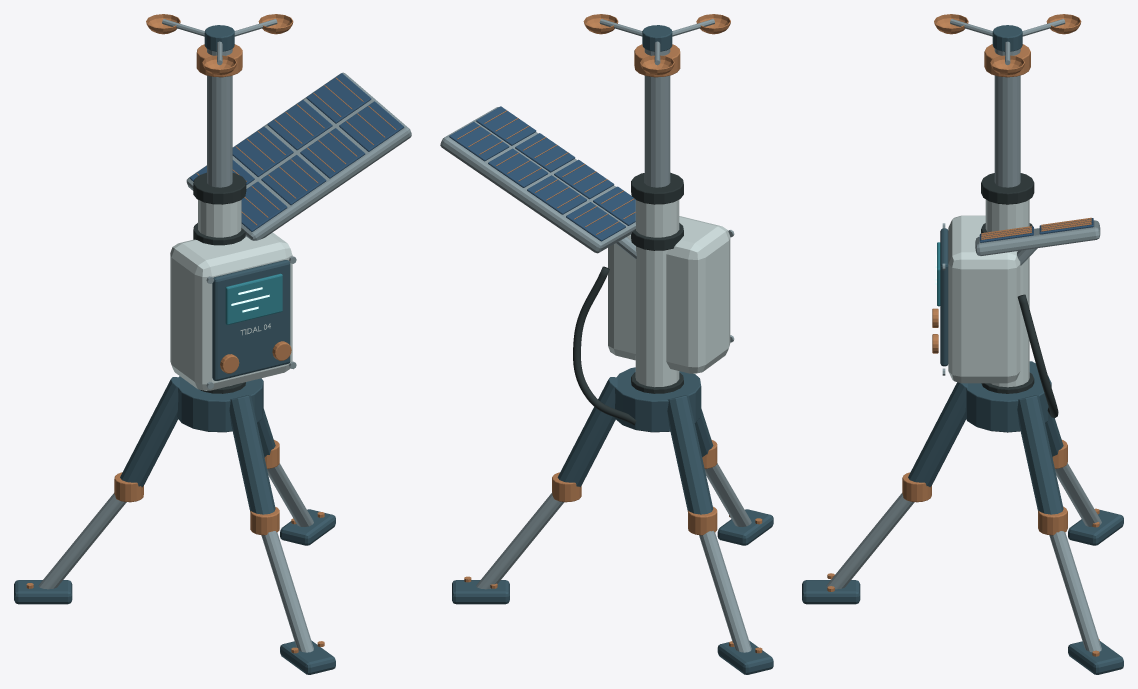
Rendered from tidal_station.glb.
3 renders of one model, left to right at view 1: azimuth 30°, elevation 25°; view 2: azimuth 150°, elevation 25°; view 3: azimuth 270°, elevation 25°, orthographic.
Visible parts, largest first — view 1: Weather-sealed control enclosure, Front instrument face, Panel frame, Leg protective sleeve.002, Upper mast, Mast base, Leg protective sleeve.001, Display glass, Telescopic leg lower.002, Telescopic leg lower.001, Photovoltaic cell.007, Photovoltaic cell.004 (+15 smaller); view 2: Weather-sealed control enclosure, Lower telescopic mast, Panel frame, Upper mast, Leg protective sleeve.001, Mast base, Leg protective sleeve, Telescopic leg lower.001, Telescopic leg lower, External service cable, Anchored foot, Photovoltaic cell.002 (+17 smaller); view 3: Weather-sealed control enclosure, Upper mast, Leg protective sleeve, Mast base, Leg protective sleeve.002, Lower telescopic mast, Telescopic leg lower, Telescopic leg lower.002, Panel frame, Anchored foot.002, Front instrument face, Mast seal.002 (+12 smaller).
Boxes of the visible parts, box(x1,y1,x2,y2) form: Weather-sealed control enclosure: box(170, 232, 292, 390); Front instrument face: box(212, 260, 290, 380); Panel frame: box(186, 72, 411, 240); Leg protective sleeve.002: box(229, 395, 275, 514); Upper mast: box(207, 48, 232, 187); Mast base: box(177, 376, 263, 432); Leg protective sleeve.001: box(120, 377, 179, 487); Display glass: box(225, 273, 282, 324); Telescopic leg lower.002: box(261, 531, 313, 652); Telescopic leg lower.001: box(38, 493, 126, 589); Photovoltaic cell.007: box(306, 73, 371, 123); Photovoltaic cell.004: box(300, 128, 365, 178); Weather-sealed control enclosure: box(608, 216, 730, 373); Lower telescopic mast: box(635, 200, 679, 387); Panel frame: box(440, 107, 635, 253); Upper mast: box(644, 49, 670, 187); Leg protective sleeve.001: box(667, 395, 713, 514); Mast base: box(614, 367, 701, 432); Leg protective sleeve: box(557, 377, 617, 487); Telescopic leg lower.001: box(699, 531, 751, 652); Telescopic leg lower: box(476, 492, 564, 589); External service cable: box(573, 266, 636, 425); Anchored foot: box(452, 580, 509, 604); Photovoltaic cell.002: box(554, 159, 614, 199); Weather-sealed control enclosure: box(948, 215, 1020, 383); Upper mast: box(994, 48, 1020, 187); Leg protective sleeve: box(1017, 395, 1063, 514); Mast base: box(965, 369, 1051, 432); Leg protective sleeve.002: box(908, 382, 967, 487); Lower telescopic mast: box(985, 199, 1029, 387); Telescopic leg lower: box(1049, 531, 1101, 652); Telescopic leg lower.002: box(826, 493, 914, 589); Panel frame: box(975, 220, 1100, 255); Anchored foot.002: box(802, 580, 860, 604); Front instrument face: box(940, 228, 948, 366); Mast seal.002: box(981, 173, 1034, 204).
Size of the model in its own units: 1.68 by 2.7 by 1.39.
